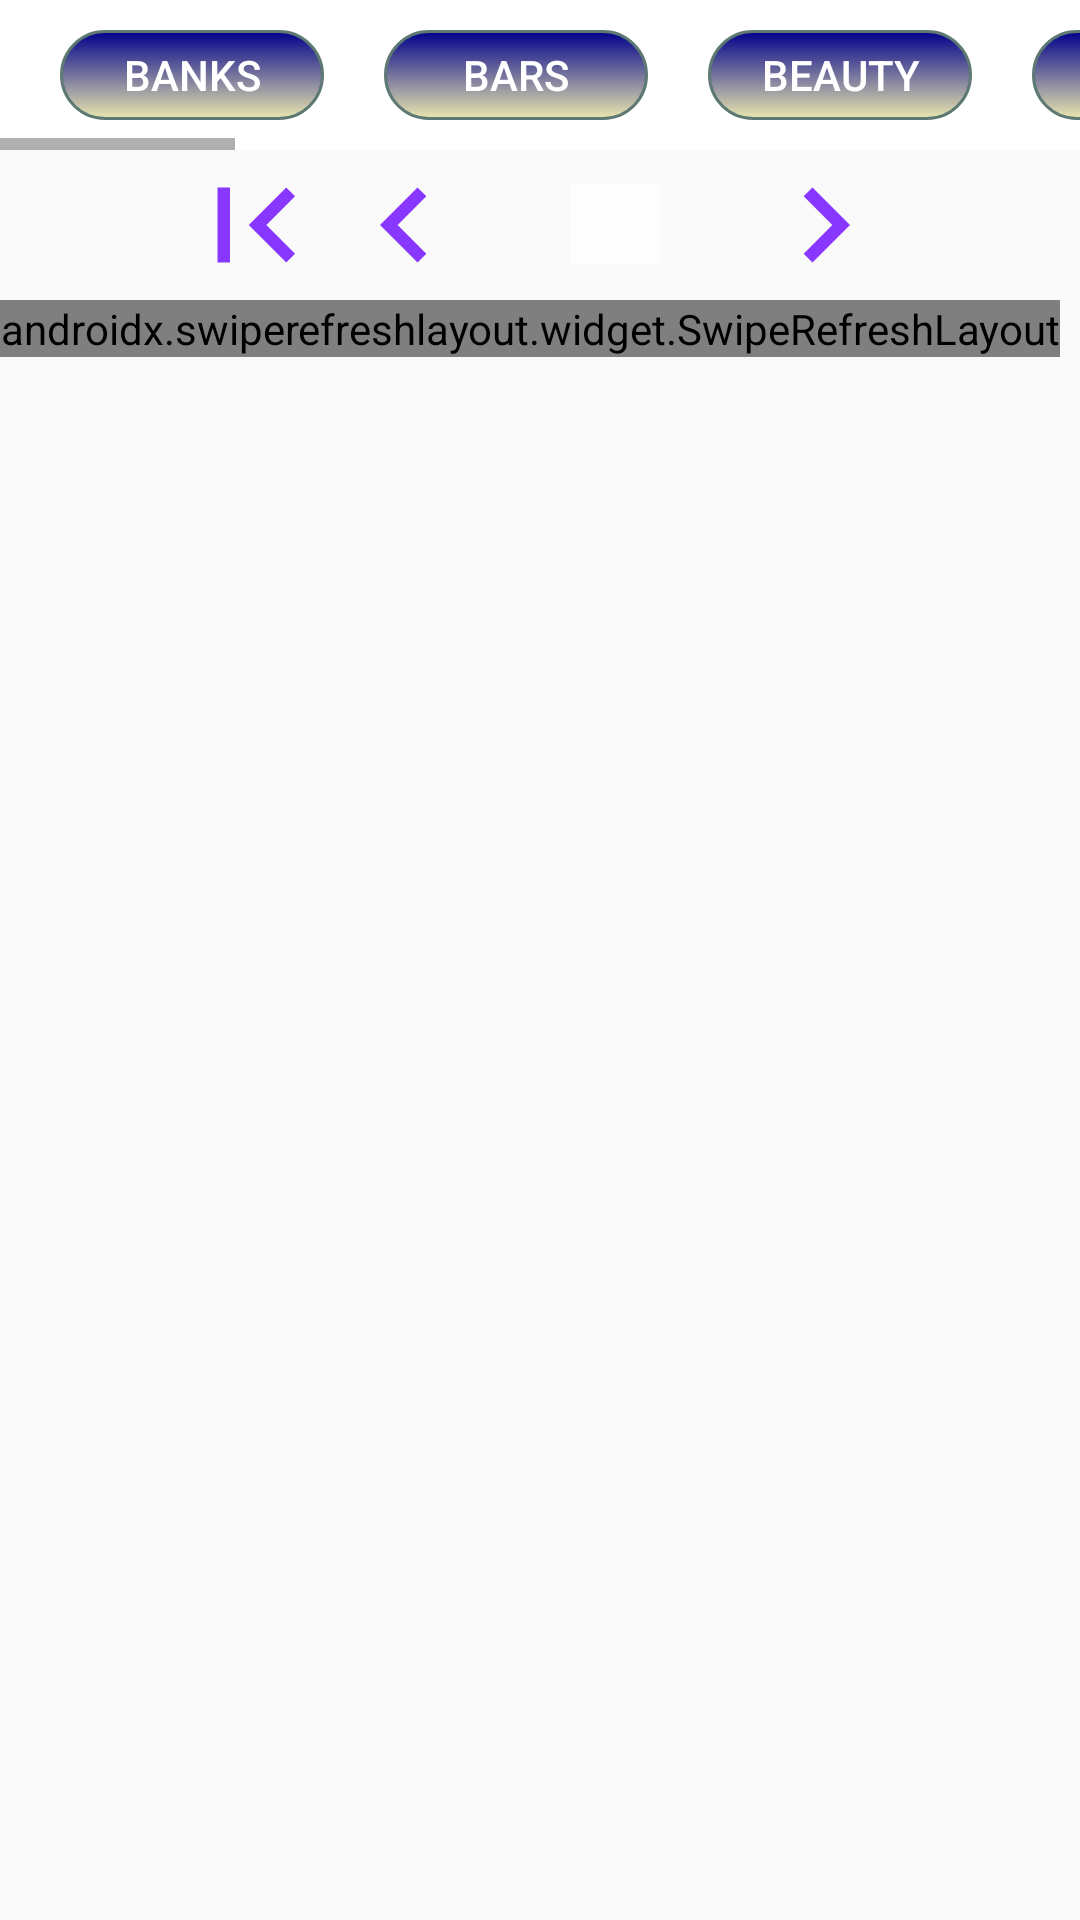

Icons on this 1080w x 1920h Android screen, each with its box as (x1, y1, x2, y2):
chevron left: (380, 187, 426, 263)
chevron right: (804, 187, 850, 263)
first page: (217, 187, 295, 263)
